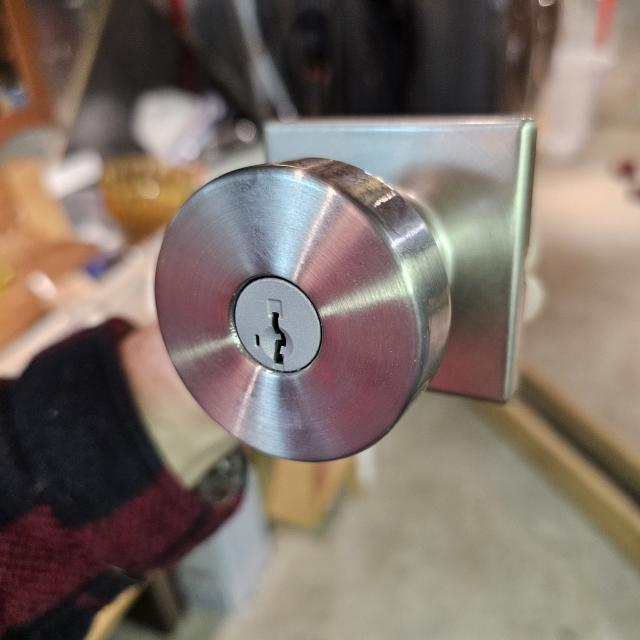door-knob: (155, 118, 535, 461)
